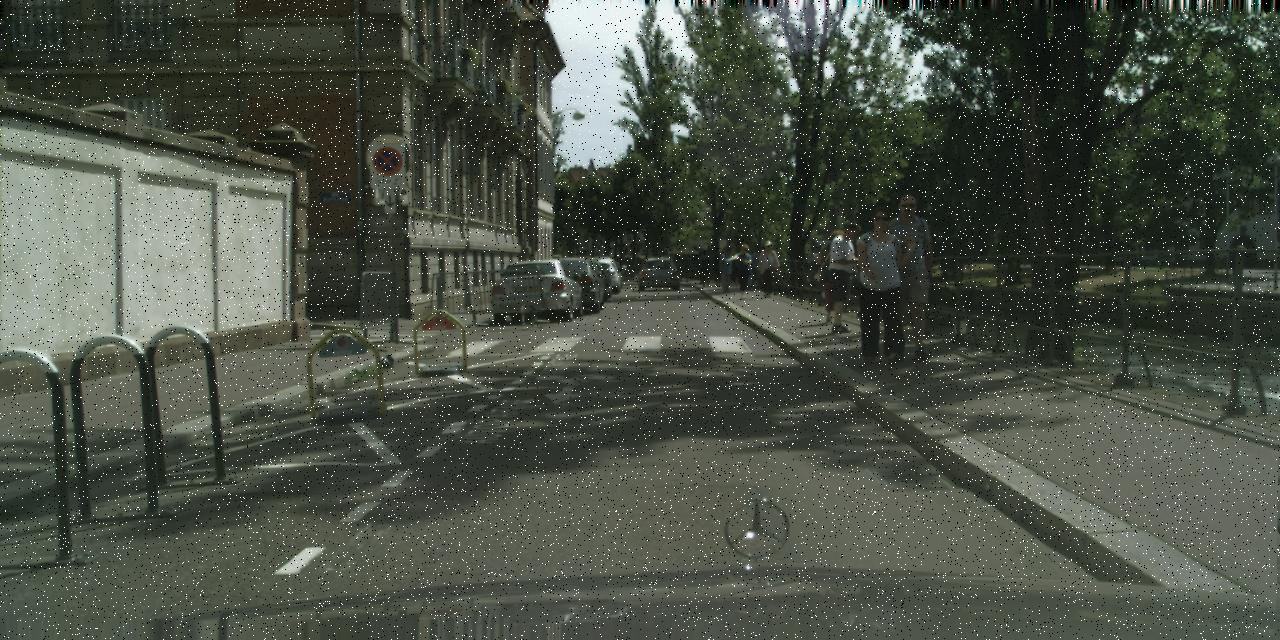ped: (873, 194, 940, 358), (850, 207, 914, 363), (826, 222, 870, 332), (814, 229, 851, 322), (756, 240, 778, 297), (733, 244, 755, 298), (718, 248, 736, 291), (724, 243, 741, 286), (748, 250, 764, 290), (708, 248, 724, 286), (696, 248, 710, 287)
